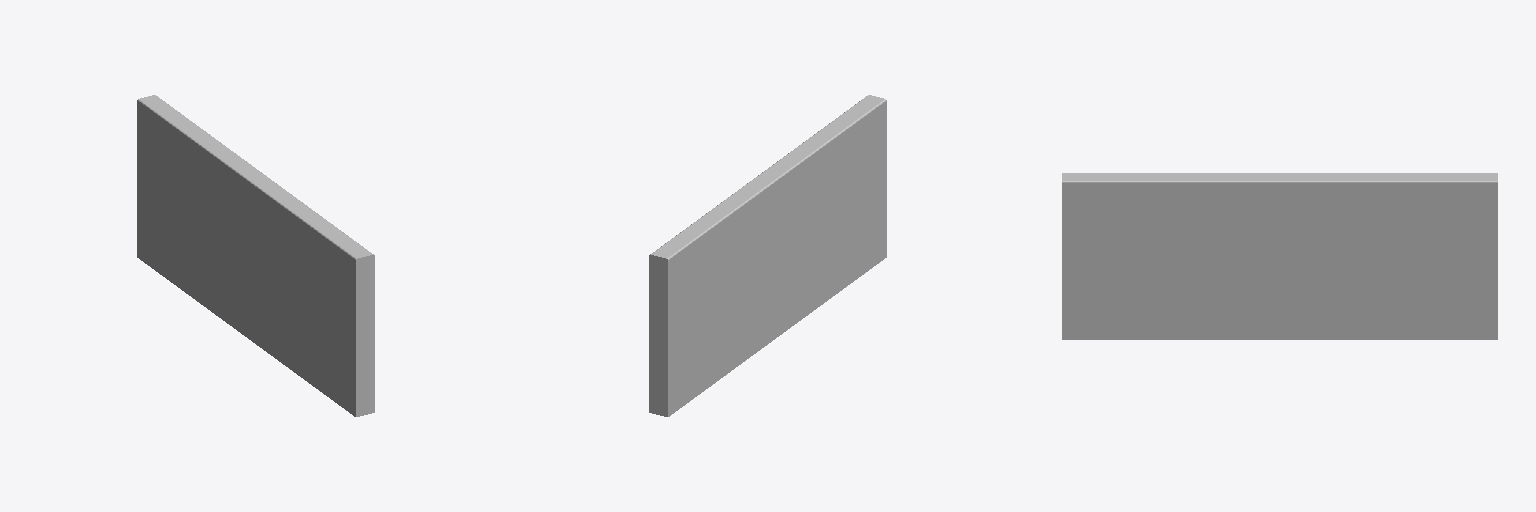
Rendered from wall2.obj.
The picture shows the model from 3 angles: view 1: azimuth 30°, elevation 25°; view 2: azimuth 150°, elevation 25°; view 3: azimuth 270°, elevation 25°; orthographic projection.
Parts seen in each view (by area): view 1: Cube; view 2: Cube; view 3: Cube.
Part boxes in pixels (bbox=[...]): Cube: bbox=[137, 95, 374, 416]; Cube: bbox=[649, 95, 886, 416]; Cube: bbox=[1062, 173, 1497, 339].
Bounding box in the file's own units: 0.5 × 4 × 10.